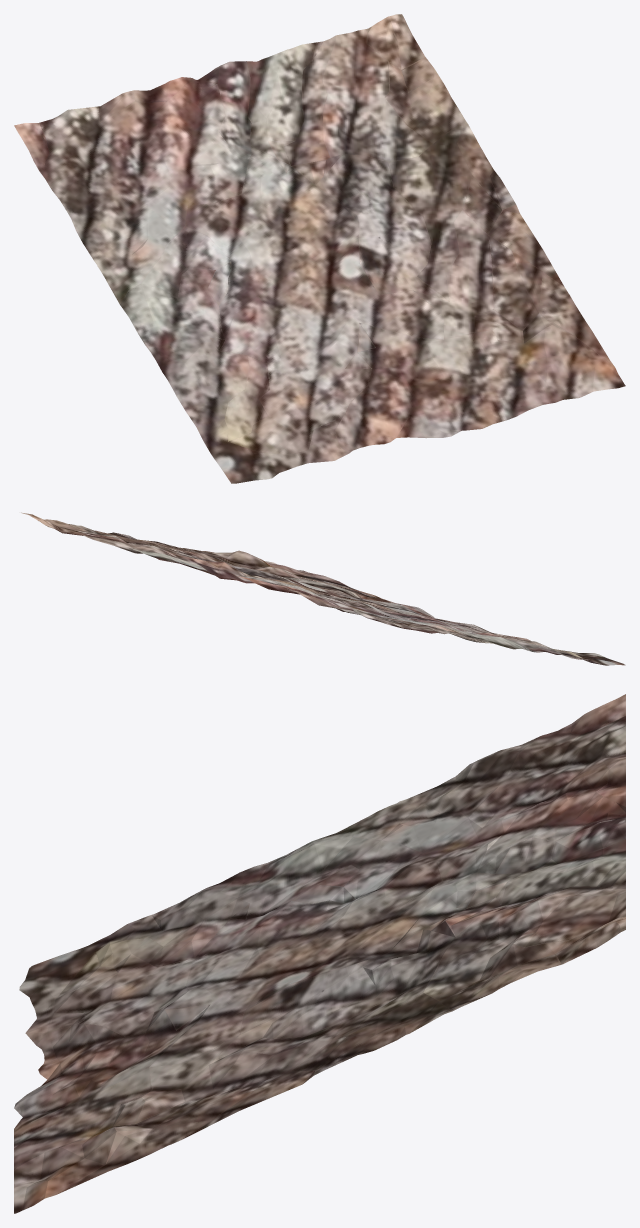
The picture shows the model from 3 angles, top to bottom: view 1: azimuth 30°, elevation 25°; view 2: azimuth 150°, elevation 25°; view 3: azimuth 270°, elevation 25°; orthographic projection. The views are drawn at different scales.
Size of the model in its own units: 1.67 by 0.8954 by 1.67.
2 materials, 2 textured.
